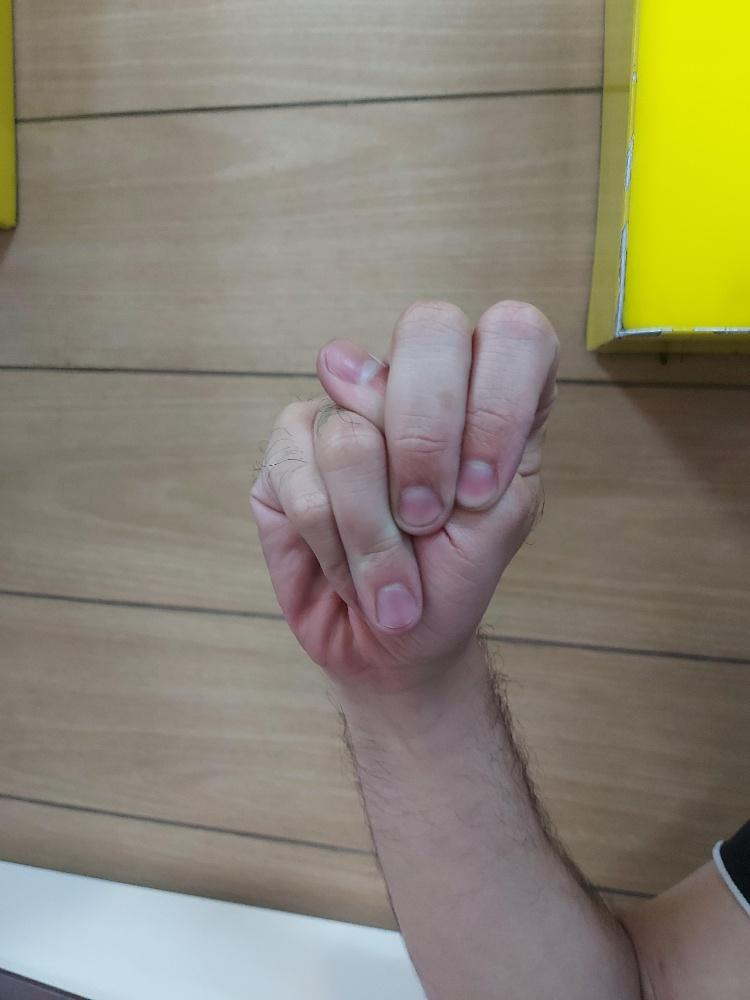n: (247, 293, 561, 676)
